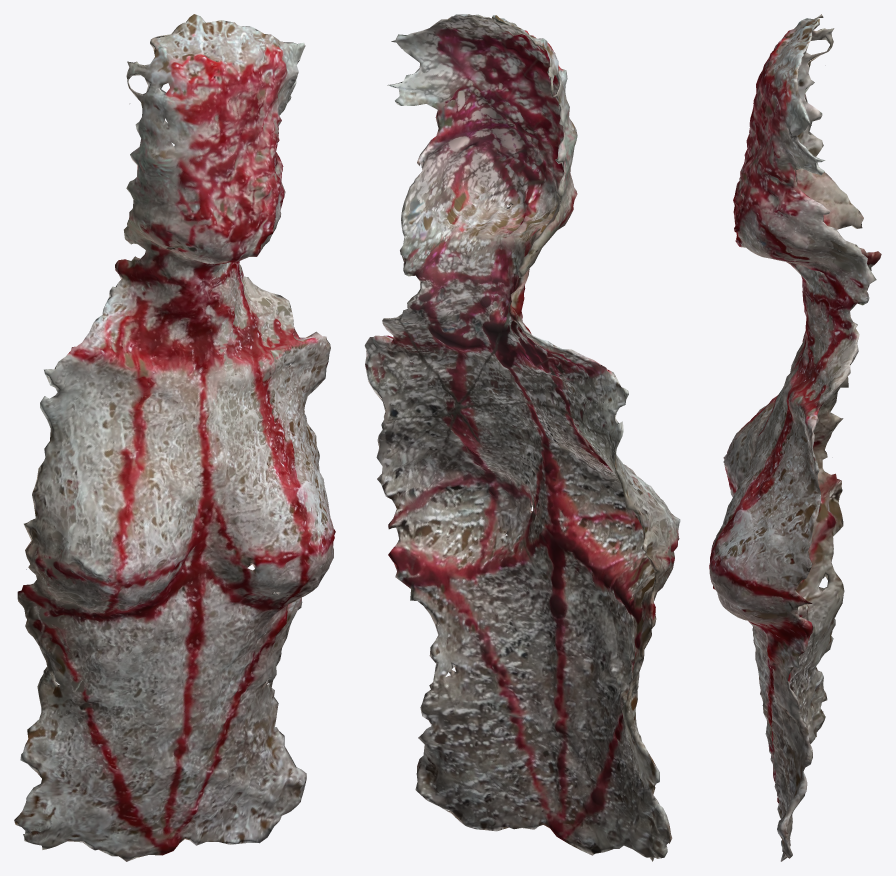
The picture shows the model from 3 angles, left to right: view 1: azimuth 30°, elevation 25°; view 2: azimuth 150°, elevation 25°; view 3: azimuth 270°, elevation 25°; orthographic projection. The views are drawn at different scales.
Visible parts, largest first — view 1: submesh; view 2: submesh; view 3: submesh.
Boxes of the visible parts, x1,y1,x2,y2 form: submesh: (14, 14, 335, 861); submesh: (364, 14, 680, 861); submesh: (709, 14, 881, 861).
Size of the model in its own units: 0.2869 by 0.7312 by 0.1392.
Materials: 1 (1 with a texture image).
